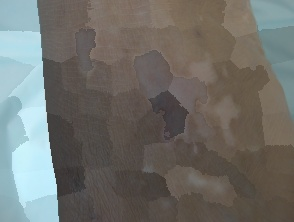vitiligo: (122, 27, 266, 210), (62, 19, 111, 84)
